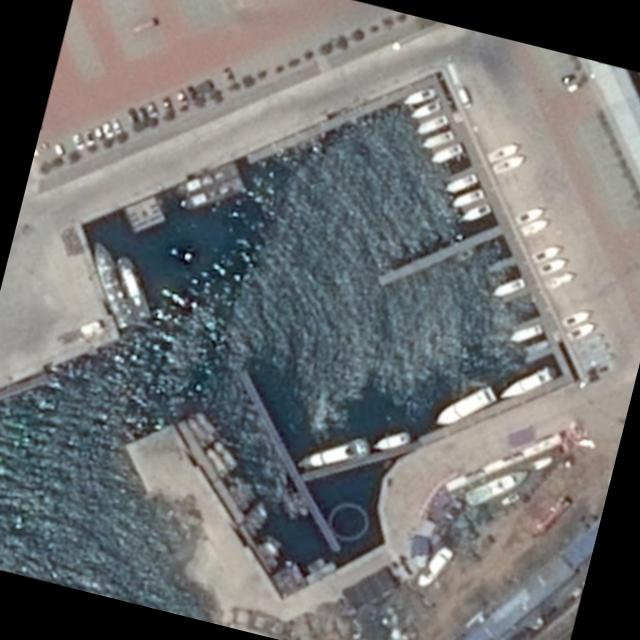ship: (87, 238, 134, 329), (430, 383, 495, 428), (463, 464, 529, 507), (294, 436, 369, 472), (113, 252, 151, 321), (176, 174, 244, 212), (171, 160, 239, 196), (496, 362, 556, 400), (414, 543, 453, 588), (370, 428, 411, 452), (490, 150, 526, 176), (485, 138, 520, 163), (413, 112, 448, 136), (192, 409, 219, 440), (448, 186, 484, 209), (428, 141, 462, 165), (202, 445, 228, 476), (400, 84, 435, 107), (443, 171, 477, 194), (490, 275, 524, 298), (508, 321, 542, 344), (211, 439, 237, 469), (184, 415, 209, 446), (418, 128, 453, 150), (513, 203, 545, 225), (408, 97, 440, 119), (459, 202, 491, 223), (559, 307, 590, 328), (530, 243, 560, 264), (543, 269, 574, 289), (519, 215, 549, 235), (536, 255, 566, 275), (564, 320, 594, 340)
